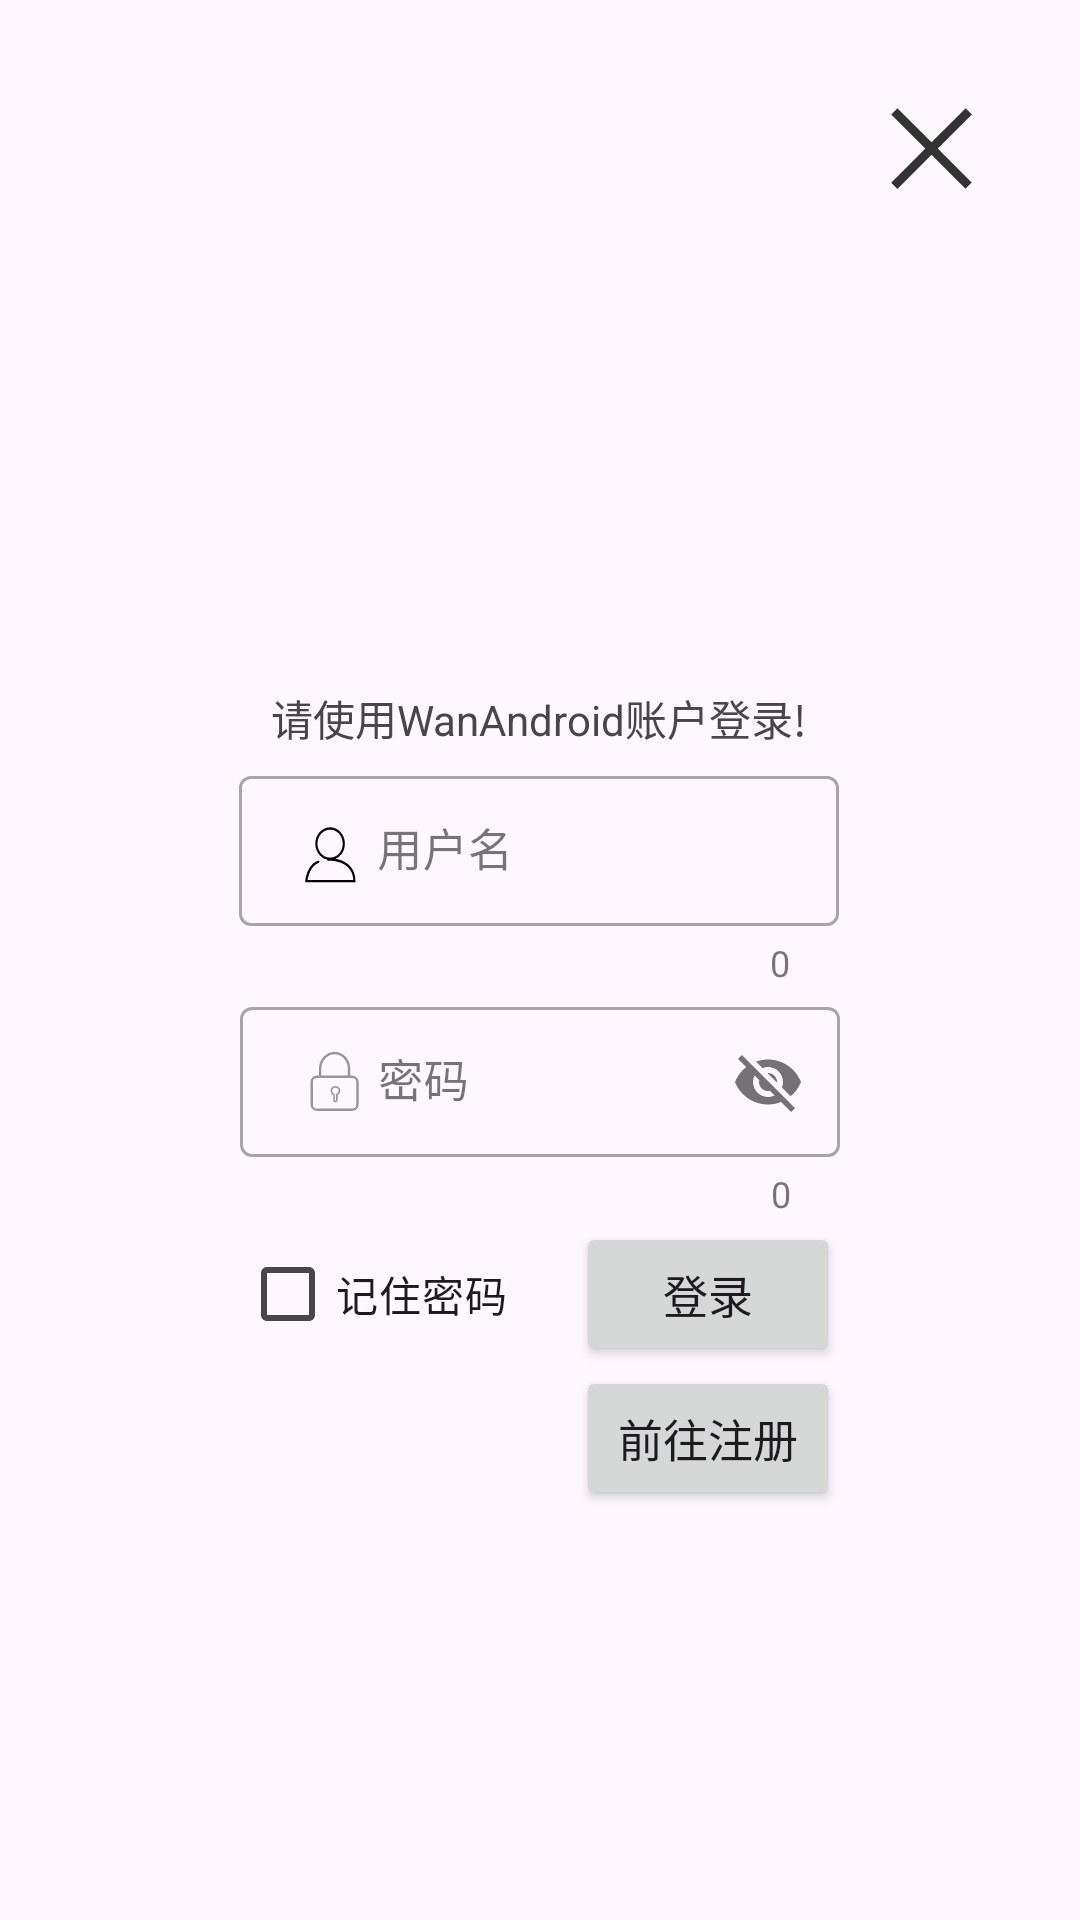

Screen size 1080w x 1920h. Icon name, then its center in pixels as (x,y):
close: (931,148)
